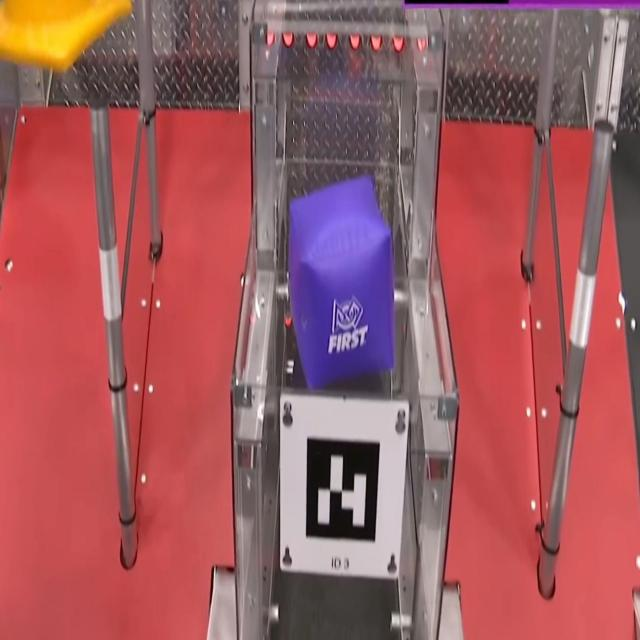frc_cone: (0, 0, 134, 75)
frc_cube: (287, 178, 392, 384)
